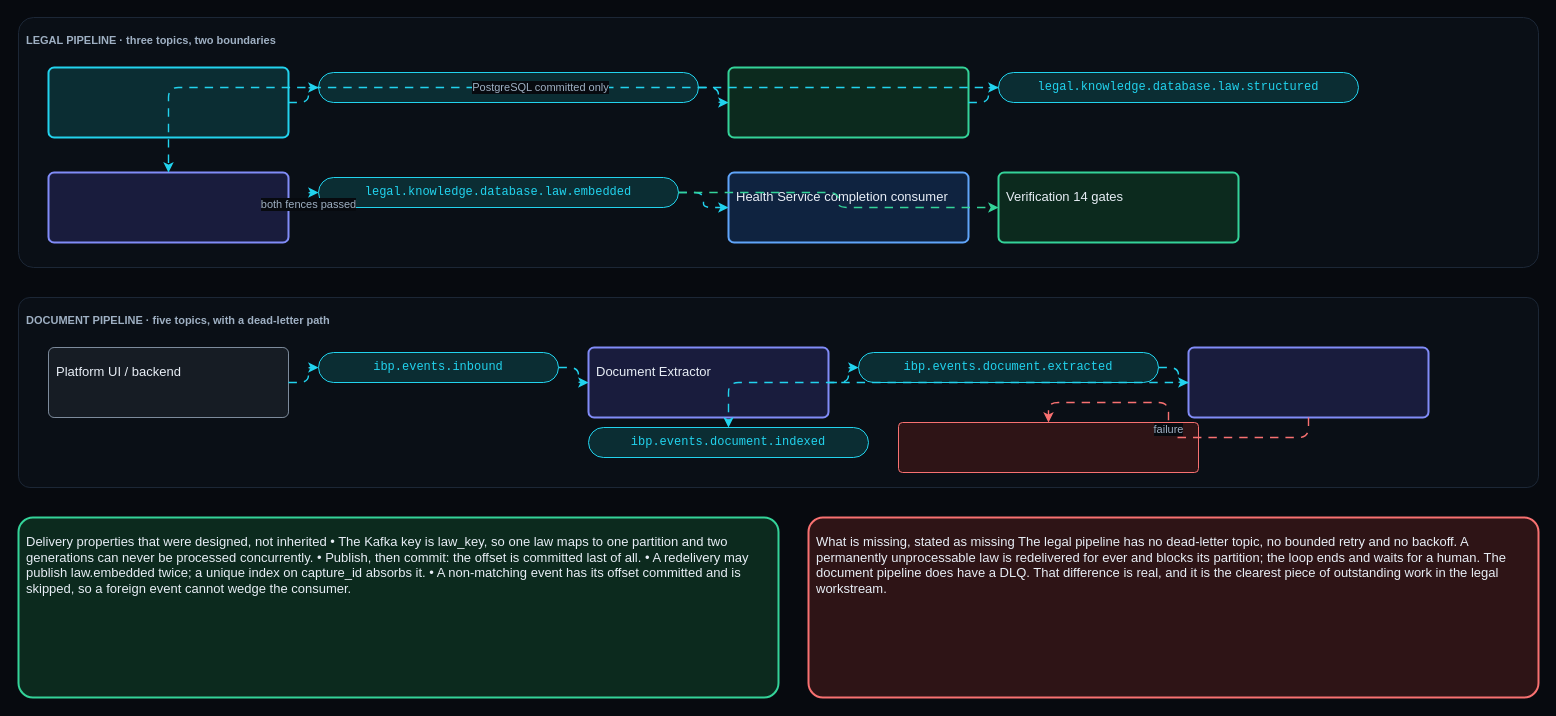
Some shapes in this 1556 by 716 pixel diagram are drawn without their labels. The shapes that lost their labels are listed below. From the top down, each one's centre as x and y in pixels, then its label:
At (x=168, y=102): "Entity Producer".
At (x=508, y=87): "legal.knowledge.database.events.inbound".
At (x=848, y=102): "Ingestion Preprocessor".
At (x=168, y=207): "Ingestion Loader".
At (x=1308, y=382): "Indexing Service".
At (x=1048, y=447): "ibp.events.document.indexed.dlq".
